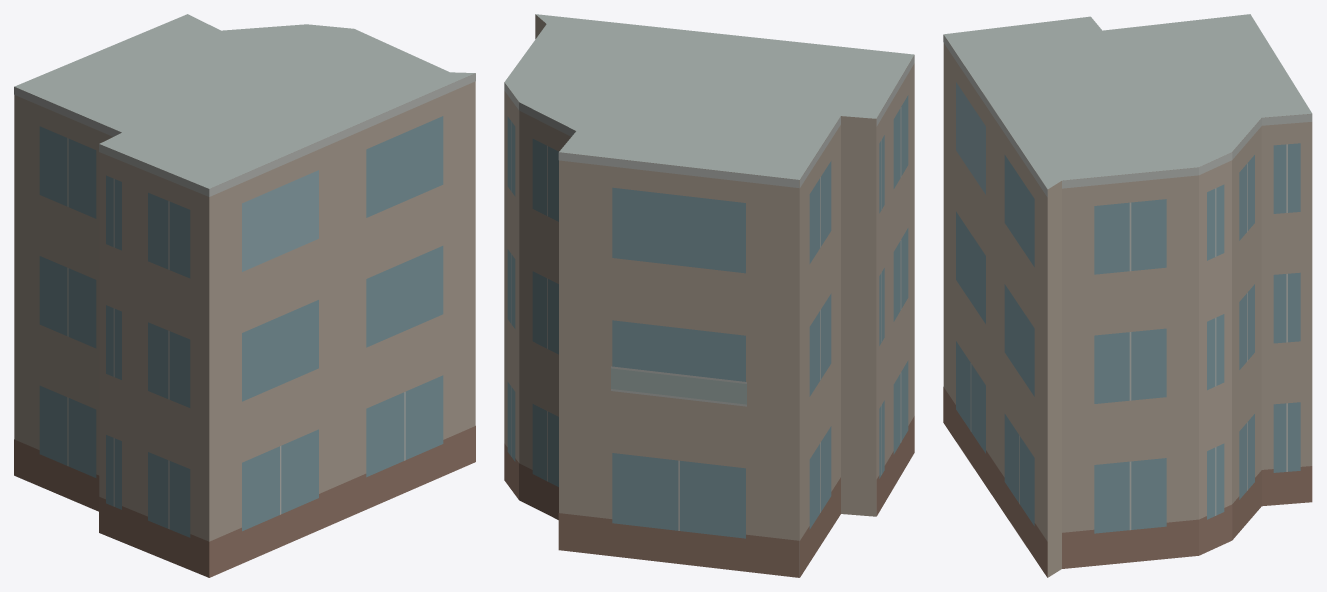
File: survey-upis-32960572.glb
The picture shows the model from 3 angles, left to right: view 1: azimuth 30°, elevation 25°; view 2: azimuth 150°, elevation 25°; view 3: azimuth 270°, elevation 25°; orthographic projection. The views are drawn at different scales.
Visible parts, largest first — view 1: survey-upis-32960572.tmp; view 2: survey-upis-32960572.tmp; view 3: survey-upis-32960572.tmp.
Part boxes in pixels (bbox=[...]): survey-upis-32960572.tmp: bbox=[14, 14, 475, 577]; survey-upis-32960572.tmp: bbox=[504, 14, 914, 577]; survey-upis-32960572.tmp: bbox=[943, 14, 1312, 577].
Size of the model in its own units: 11.35 by 11.71 by 10.09.
